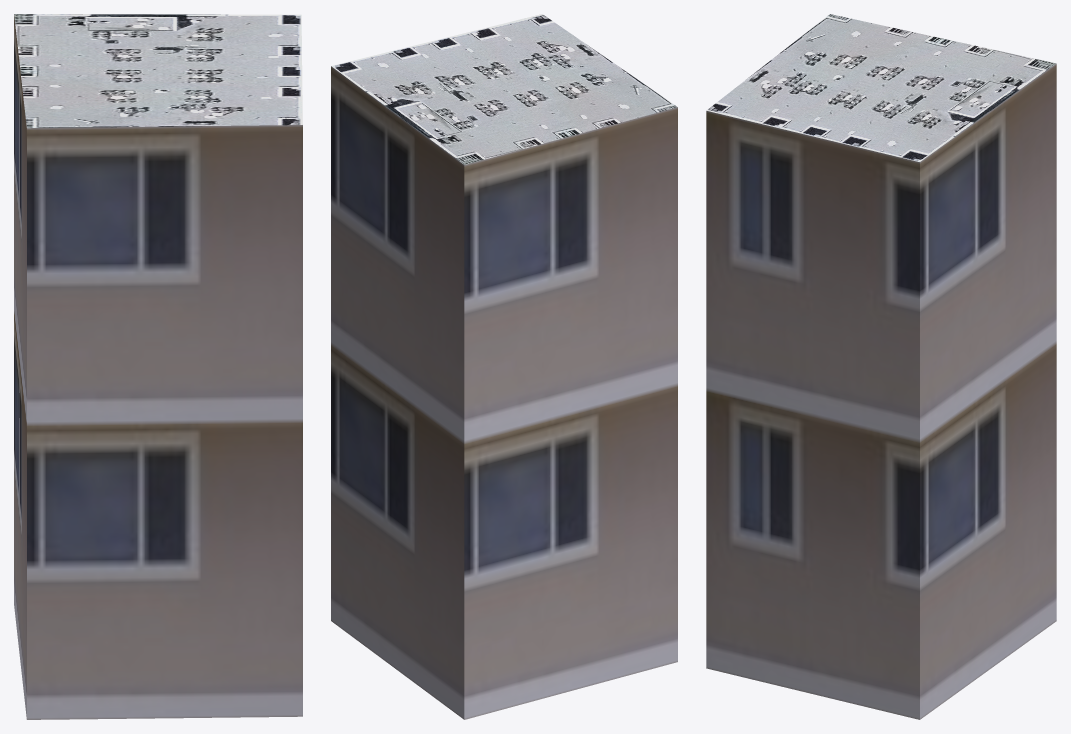
The model's file is ResTex__2584.fbx.
3 renders of one model, left to right at view 1: azimuth 30°, elevation 25°; view 2: azimuth 150°, elevation 25°; view 3: azimuth 270°, elevation 25°, orthographic. The views are drawn at different scales.
Visible parts, largest first — view 1: CityEngineMaterial_21_m, CityEngineMaterial_m; view 2: CityEngineMaterial_21_m, CityEngineMaterial_m; view 3: CityEngineMaterial_21_m, CityEngineMaterial_m.
Part boxes in pixels (left/top/right/bottom): CityEngineMaterial_21_m: left=14, top=14, right=302, bottom=719; CityEngineMaterial_m: left=14, top=14, right=302, bottom=128; CityEngineMaterial_21_m: left=331, top=66, right=677, bottom=719; CityEngineMaterial_m: left=331, top=14, right=677, bottom=164; CityEngineMaterial_21_m: left=706, top=63, right=1056, bottom=719; CityEngineMaterial_m: left=706, top=14, right=1056, bottom=161.
Size of the model in its own units: 3.42 by 6 by 3.42.
Materials: 2 (2 with a texture image).
